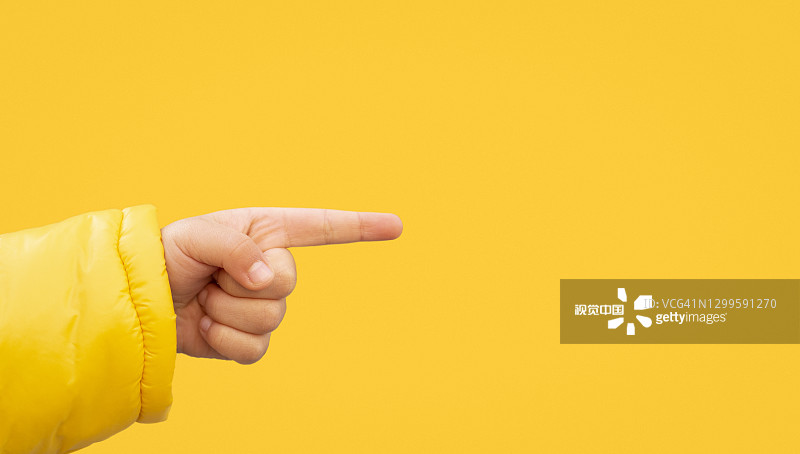no-phone: (142, 161, 426, 387)
